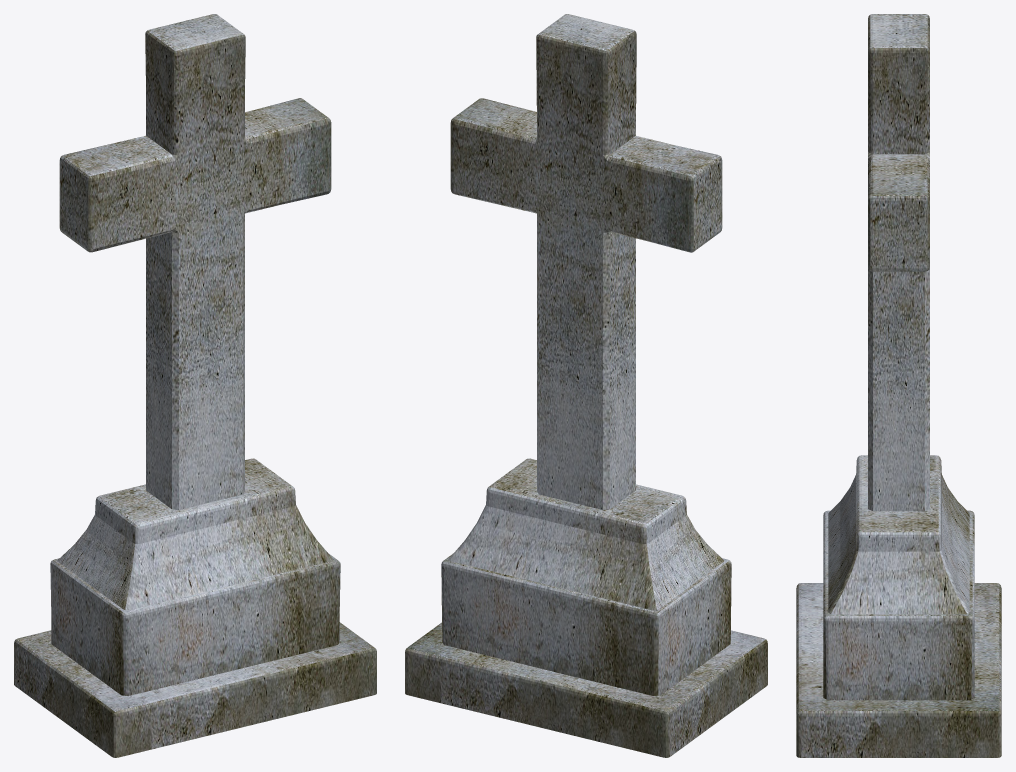
File: CrossGrave.fbx
3 views of the same model, side by side, from view 1: azimuth 30°, elevation 25°; view 2: azimuth 150°, elevation 25°; view 3: azimuth 270°, elevation 25° (orthographic).
Parts seen in each view (by area): view 1: Box01; view 2: Box01; view 3: Box01.
Boxes of the visible parts, <box> form: Box01: <box>14,14,376,757</box>; Box01: <box>405,14,767,757</box>; Box01: <box>796,14,1001,757</box>.
Size of the model in its own units: 17.96 by 42.67 by 11.97.
